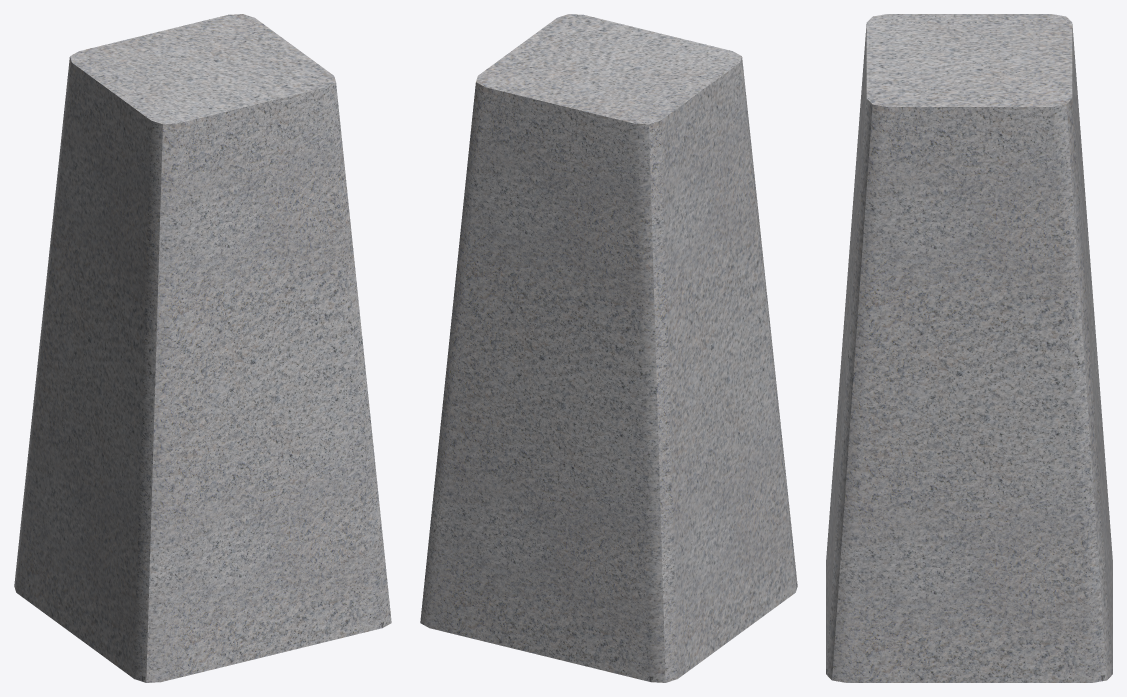
Rendered from SM_S_Square_3.fbx.
3 renders of one model, left to right at view 1: azimuth 30°, elevation 25°; view 2: azimuth 150°, elevation 25°; view 3: azimuth 270°, elevation 25°, orthographic. The views are drawn at different scales.
Parts seen in each view (by area): view 1: SM_S_Square_3; view 2: SM_S_Square_3; view 3: SM_S_Square_3.
Part boxes in pixels (x1,y1,x2,y2): SM_S_Square_3: (14,14,391,682); SM_S_Square_3: (420,14,797,682); SM_S_Square_3: (826,14,1112,682).
Bounding box in the file's own units: 71.5 × 66.82 × 143.
1 material, 1 textured.
